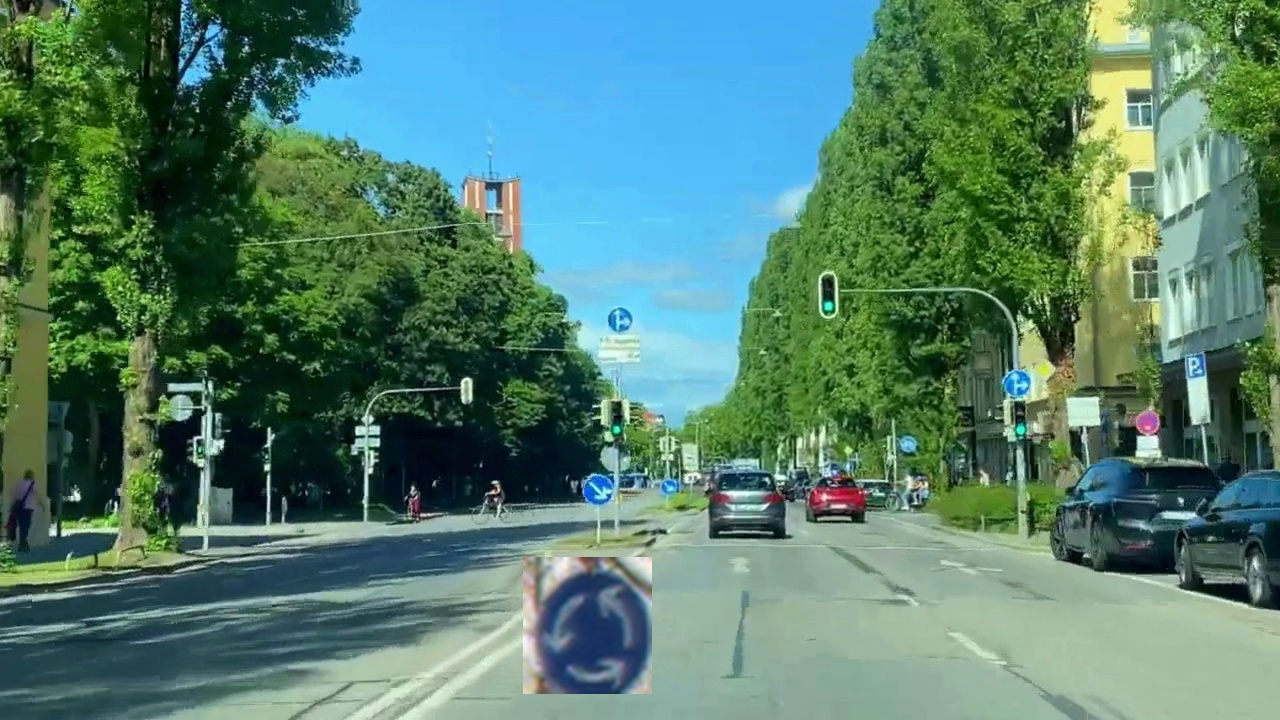Roundabout: (523, 557, 652, 694)
